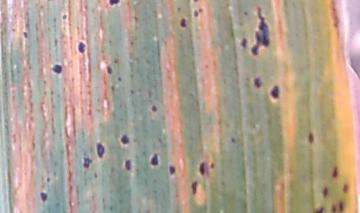tarspot: (250, 5, 273, 57), (120, 156, 138, 173), (268, 83, 283, 101), (94, 139, 108, 158), (73, 39, 90, 54), (148, 152, 163, 167), (49, 62, 65, 76), (198, 158, 210, 176), (38, 188, 51, 203), (81, 155, 94, 169), (118, 132, 132, 145), (330, 163, 340, 179), (167, 163, 179, 176), (178, 16, 190, 29), (341, 179, 351, 194), (252, 76, 265, 86), (239, 36, 249, 49), (191, 179, 200, 193), (149, 103, 160, 114), (43, 174, 55, 184), (338, 198, 346, 213), (106, 1, 123, 8), (313, 205, 327, 213), (105, 64, 115, 75), (328, 202, 338, 213), (321, 185, 330, 196), (202, 60, 211, 71), (109, 82, 118, 93), (308, 130, 315, 143), (60, 12, 69, 21), (173, 4, 182, 13), (106, 37, 115, 46), (192, 8, 200, 18), (92, 168, 99, 179), (10, 26, 18, 35), (21, 30, 31, 37), (132, 14, 140, 22), (220, 179, 228, 187), (243, 8, 250, 17), (113, 57, 120, 66), (230, 136, 237, 144), (101, 196, 107, 205), (117, 76, 124, 83), (129, 87, 136, 94), (108, 204, 114, 212), (130, 38, 135, 47), (54, 38, 59, 47), (52, 17, 59, 23), (200, 7, 205, 14), (210, 162, 215, 169), (192, 1, 202, 3)
